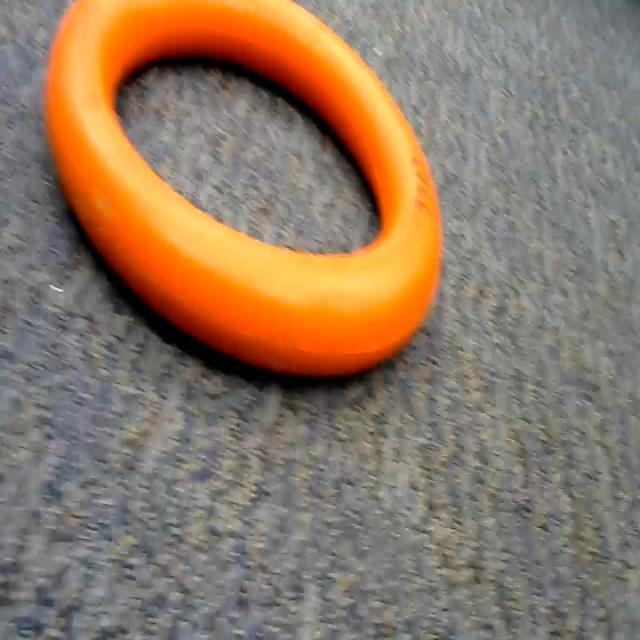note: (36, 0, 448, 408)
